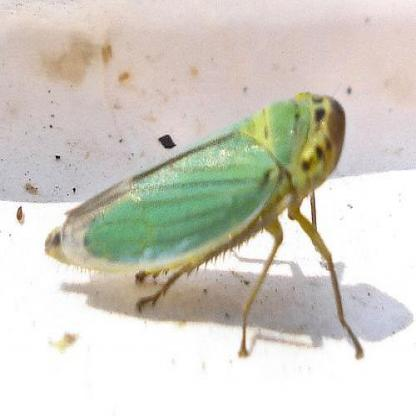Green-Leafhopper: (43, 87, 361, 356)
